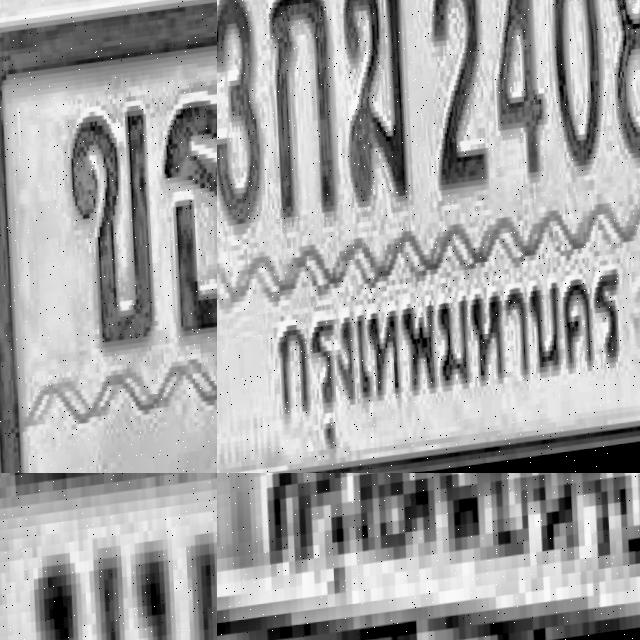license-plate: (217, 0, 640, 473), (0, 0, 217, 473), (217, 473, 640, 640), (0, 473, 217, 640)
